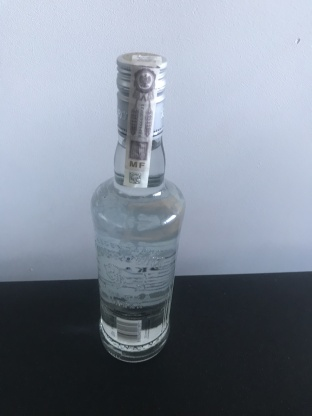nakretka: (113, 48, 169, 142)
